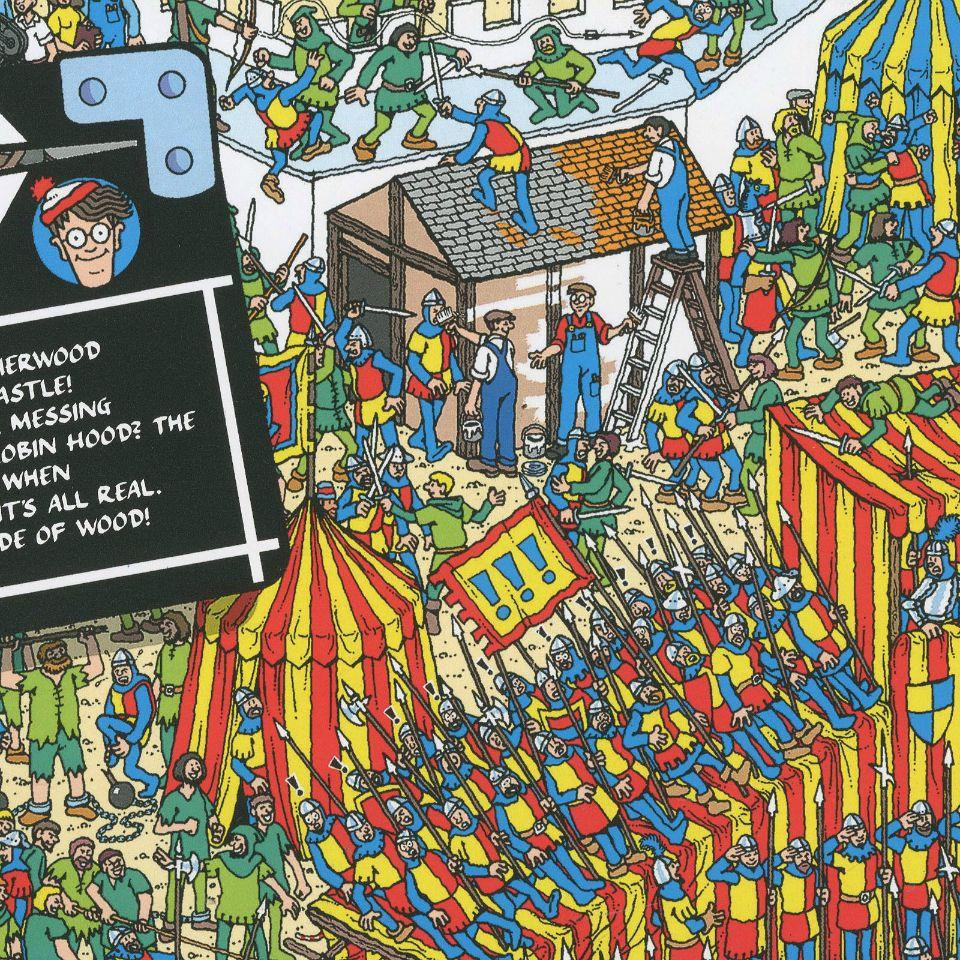waldo: (30, 179, 142, 289)
